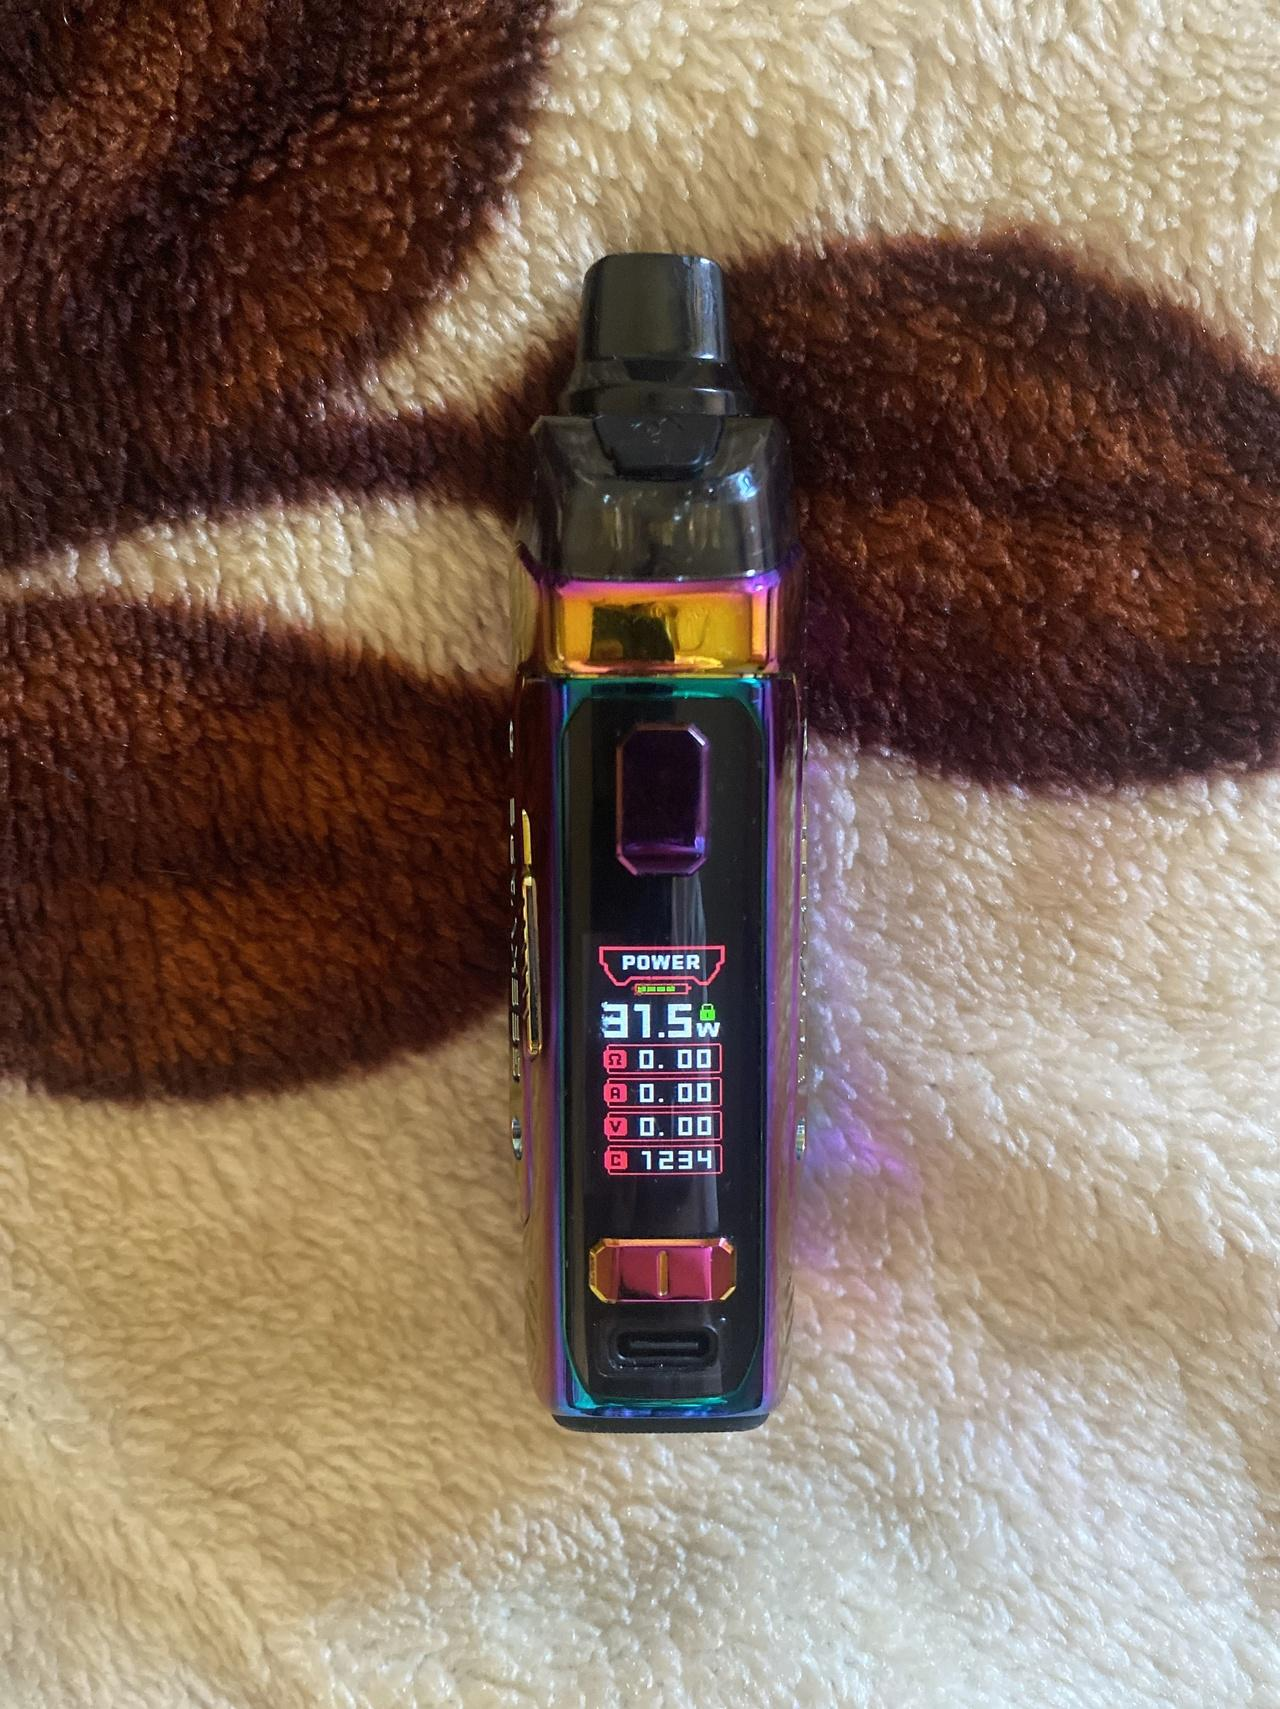Vape: (511, 253, 807, 1429)
